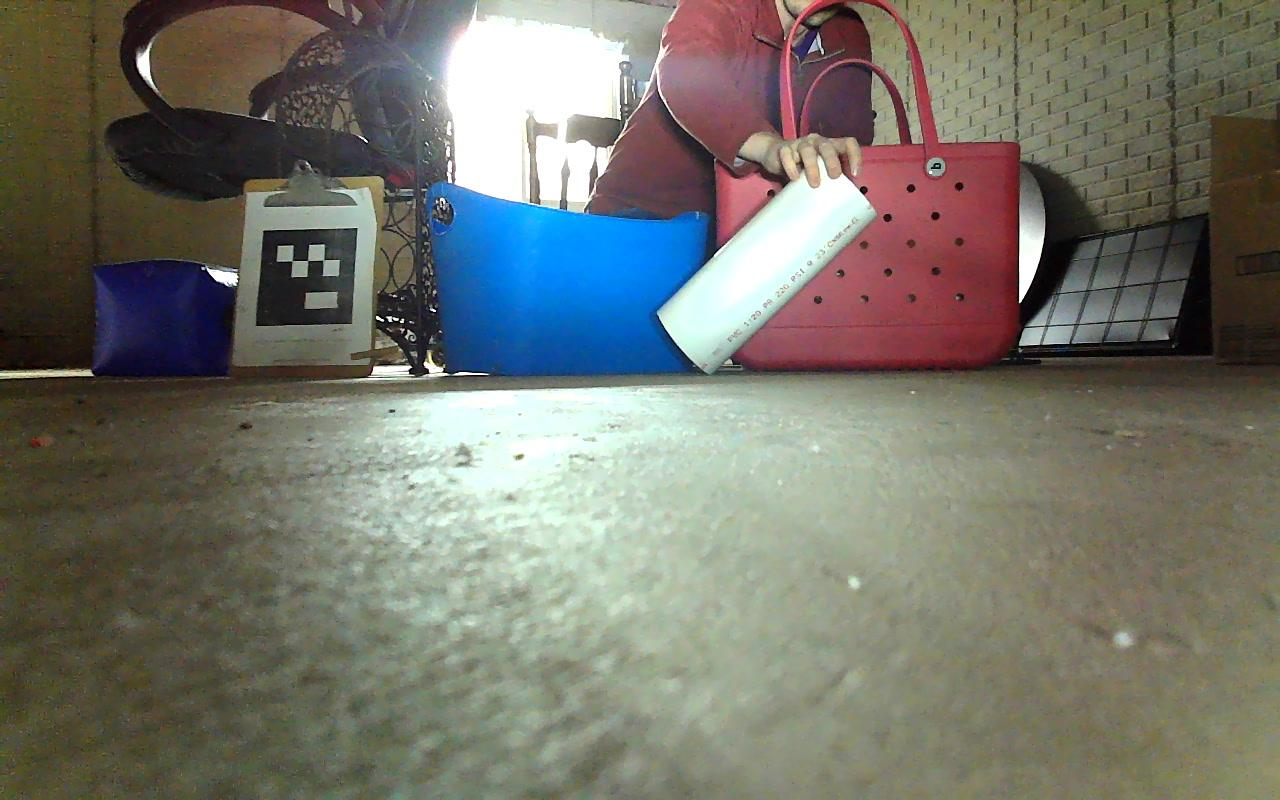coral: (655, 148, 878, 378)
